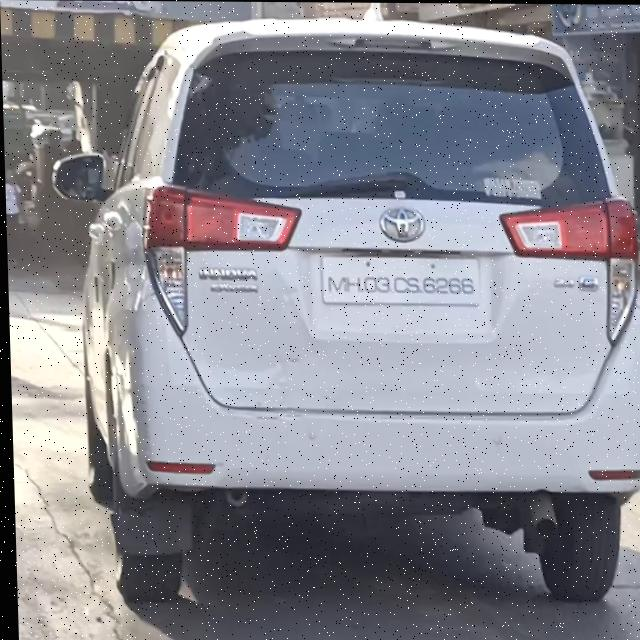plate: (321, 252, 480, 311)
